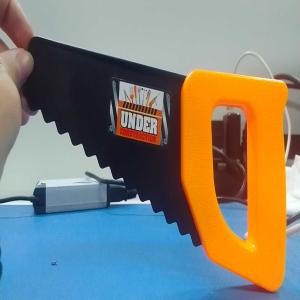serrote: (33, 34, 290, 290)
